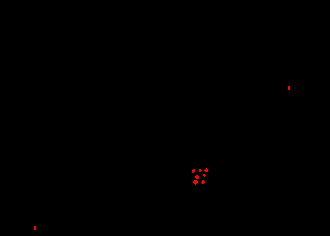Target: (193, 180, 198, 185), (204, 168, 208, 172), (195, 175, 199, 179), (201, 180, 205, 184), (192, 169, 195, 173), (199, 169, 202, 172), (203, 174, 206, 177), (288, 86, 290, 90), (34, 226, 36, 230)
